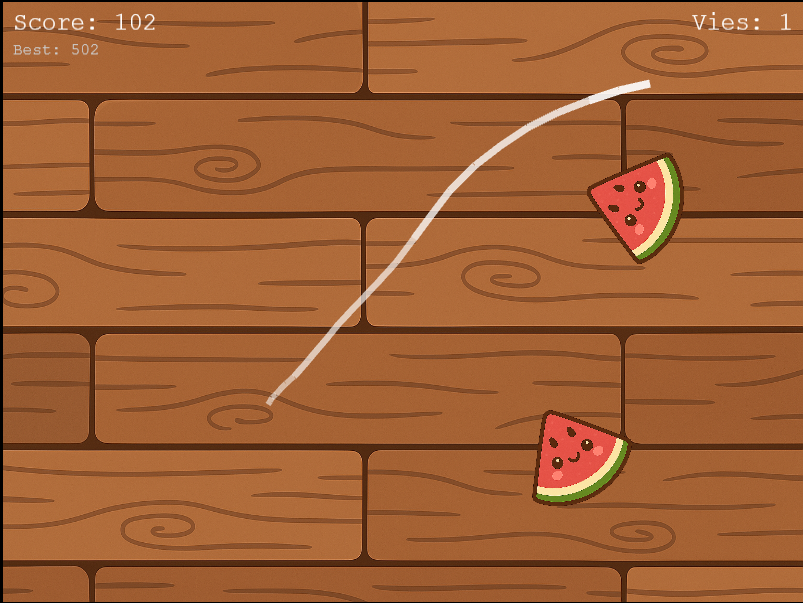fruit: (584, 149, 693, 269), (529, 405, 632, 512)
